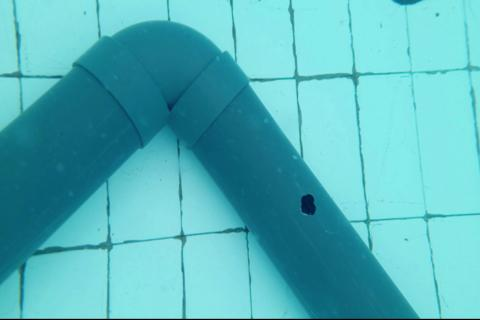kebocoran: (300, 192, 317, 217)
